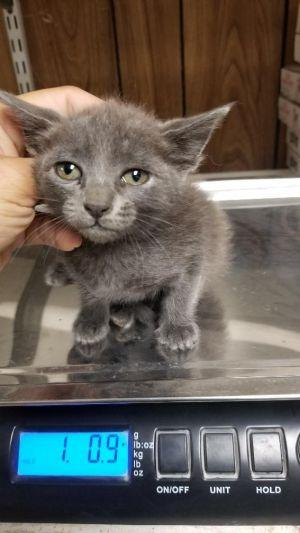rblue: (1, 37, 237, 296)
